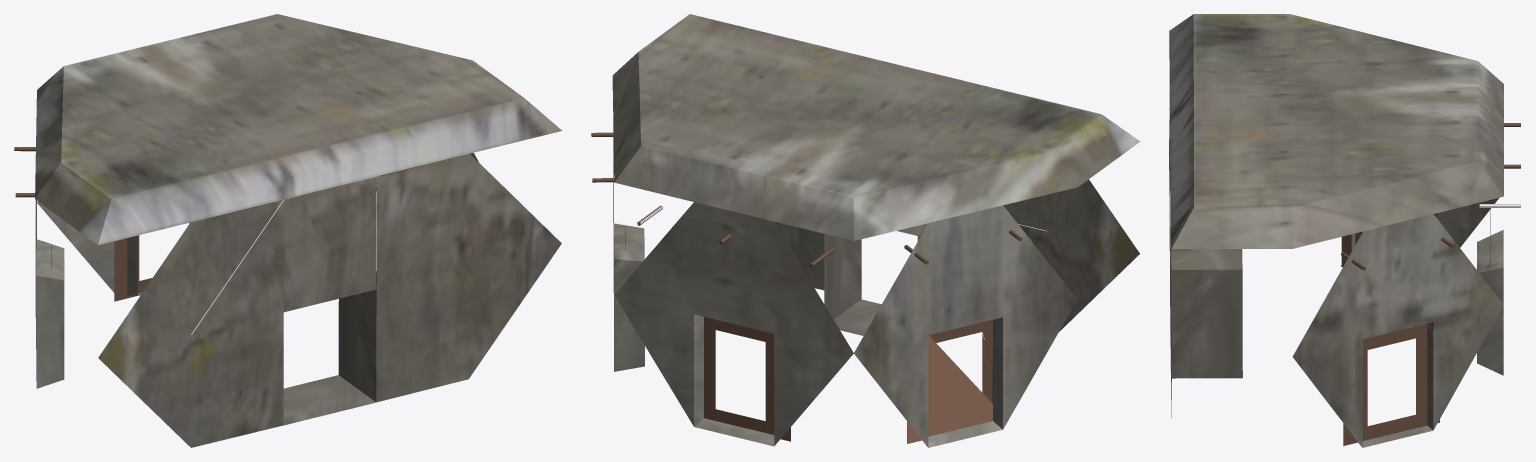
File: bw-bunker.zfix-v14.lod1.glb
3 views of the same model, side by side, from view 1: azimuth 30°, elevation 25°; view 2: azimuth 150°, elevation 25°; view 3: azimuth 270°, elevation 25° (orthographic). The views are drawn at different scales.
Parts seen in each view (by area): view 1: Cube.001_0, pin1_0; view 2: Cube.001_0, pin1_0, Cylinder.016_0; view 3: Cube.001_0, pin1_0.
Boxes of the visible parts, bbox=[...] form: Cube.001_0: bbox=[35, 14, 562, 447]; pin1_0: bbox=[14, 147, 424, 301]; Cube.001_0: bbox=[612, 14, 1140, 447]; pin1_0: bbox=[591, 132, 1022, 443]; Cylinder.016_0: bbox=[637, 206, 992, 443]; Cube.001_0: bbox=[1169, 14, 1503, 447]; pin1_0: bbox=[1341, 123, 1520, 445].
Bounding box in the file's own units: 9 × 4.73 × 6.15.
Materials: 3 (2 with a texture image).
